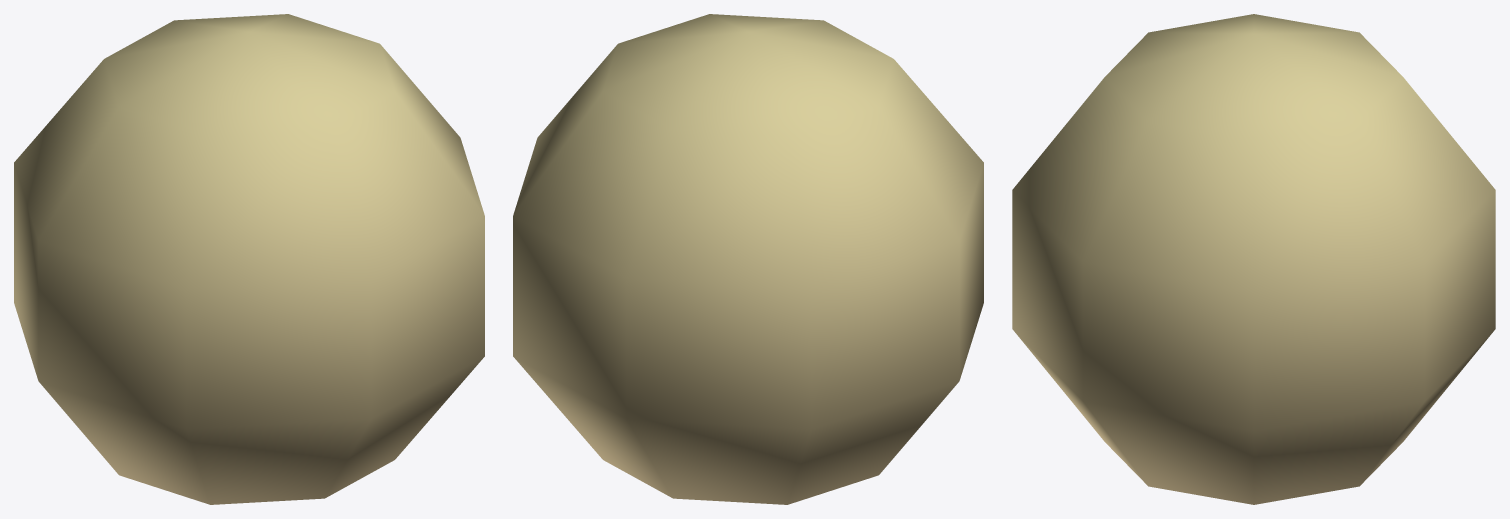
Rendered from light-bulb.glb.
The picture shows the model from 3 angles, left to right: view 1: azimuth 30°, elevation 25°; view 2: azimuth 150°, elevation 25°; view 3: azimuth 270°, elevation 25°; orthographic projection.
Visible parts, largest first — view 1: light-bulb; view 2: light-bulb; view 3: light-bulb.
Part boxes in pixels (left/top/right/bottom): light-bulb: left=14, top=14, right=484, bottom=504; light-bulb: left=513, top=14, right=983, bottom=504; light-bulb: left=1012, top=14, right=1495, bottom=504.
Size of the model in its own units: 0.0542 by 0.0558 by 0.0542.
